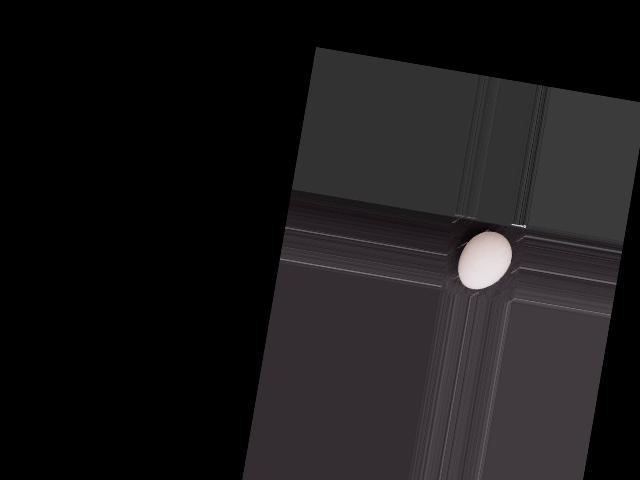egg: (454, 226, 515, 294)
